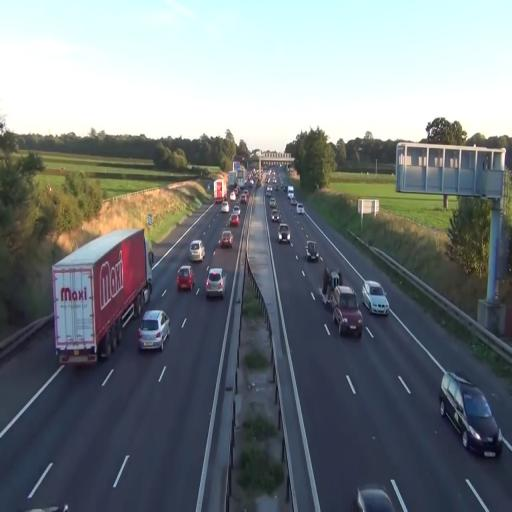vehicle: (52, 228, 152, 366), (439, 371, 502, 458), (459, 387, 502, 459), (356, 478, 408, 512), (331, 287, 363, 337), (137, 308, 170, 352), (362, 280, 390, 316), (205, 268, 225, 299), (176, 264, 194, 294), (189, 238, 205, 262), (219, 230, 234, 249), (305, 240, 318, 261), (278, 222, 290, 244), (230, 208, 242, 226), (270, 202, 280, 223)
